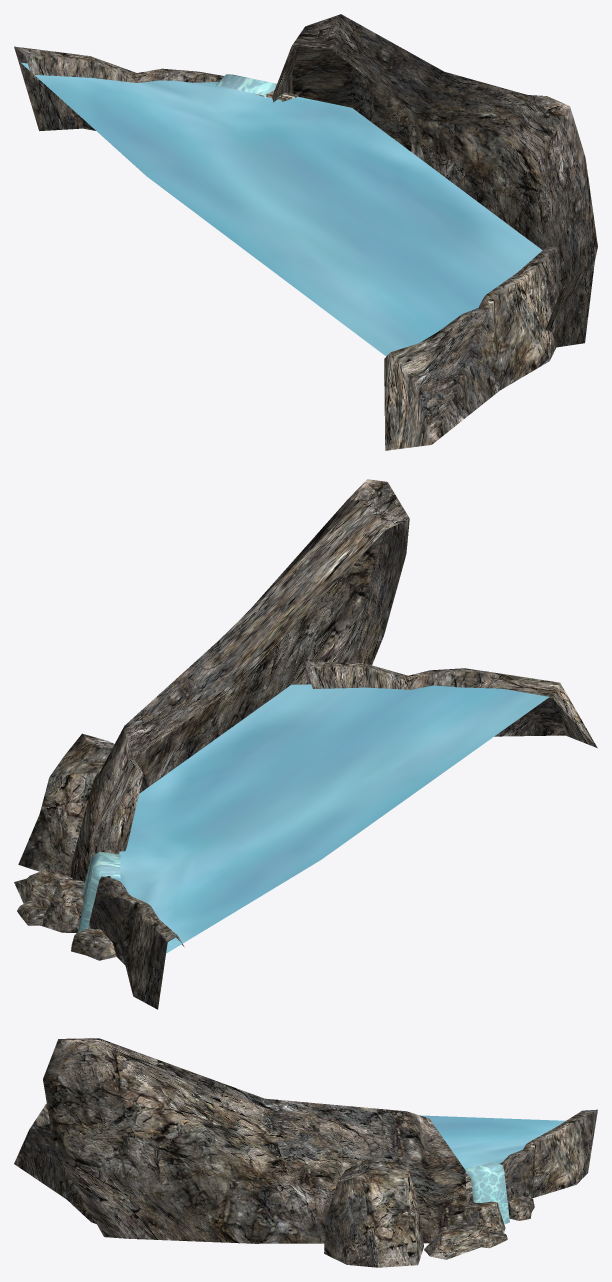
File: pir_m_prp_cav_pool_large.fbx
The picture shows the model from 3 angles, top to bottom: view 1: azimuth 30°, elevation 25°; view 2: azimuth 150°, elevation 25°; view 3: azimuth 270°, elevation 25°; orthographic projection. The views are drawn at different scales.
Parts seen in each view (by area): view 1: blackbox2, pCube2, pCube72, pCube3, pPlane58; view 2: blackbox2, pCube2, pCube72, pCube61, pCube3, pCube59, pPlane58, pCube73, pCube60; view 3: pCube2, pCube61, pCube3, blackbox2, pCube72, pCube73, pPlane58, pCube59, pCube60, pCube74.
Boxes of the visible parts, x1,y1,x2,y2 form: blackbox2: (21,62,542,356); pCube2: (272,14,597,347); pCube72: (384,246,558,450); pCube3: (14,46,298,130); pPlane58: (216,74,276,98); blackbox2: (112,684,549,953); pCube2: (69,479,409,881); pCube72: (304,661,597,748); pCube61: (18,733,149,876); pCube3: (89,849,184,1009); pCube59: (42,878,90,932); pPlane58: (76,851,120,933); pCube73: (14,870,72,909); pCube60: (71,929,116,960); pCube2: (43,1038,466,1243); pCube61: (324,1159,423,1267); pCube3: (465,1109,597,1207); blackbox2: (420,1115,565,1168); pCube72: (14,1103,96,1223); pCube73: (424,1220,489,1259); pPlane58: (464,1162,509,1224); pCube59: (462,1201,505,1232); pCube60: (508,1196,534,1220); pCube74: (478,1231,507,1248).
Size of the model in its own units: 5075 by 3728 by 10632.
Materials: 3 (3 with a texture image).
